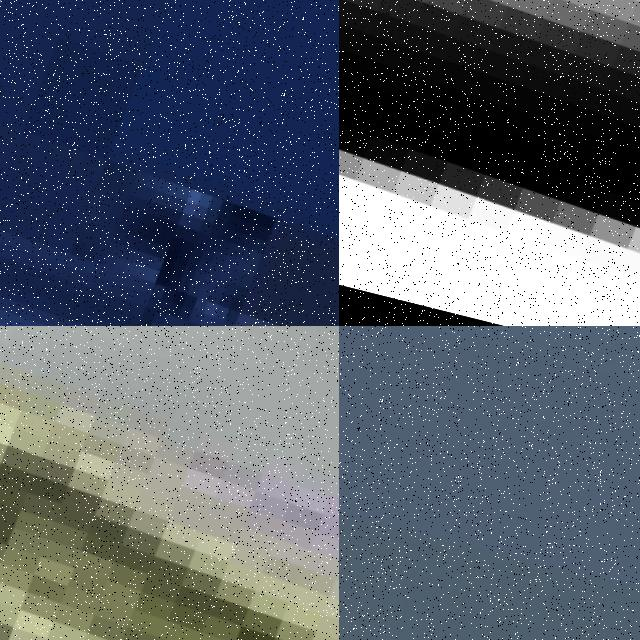drone: (0, 0, 339, 326), (0, 326, 339, 640), (339, 0, 640, 326)
